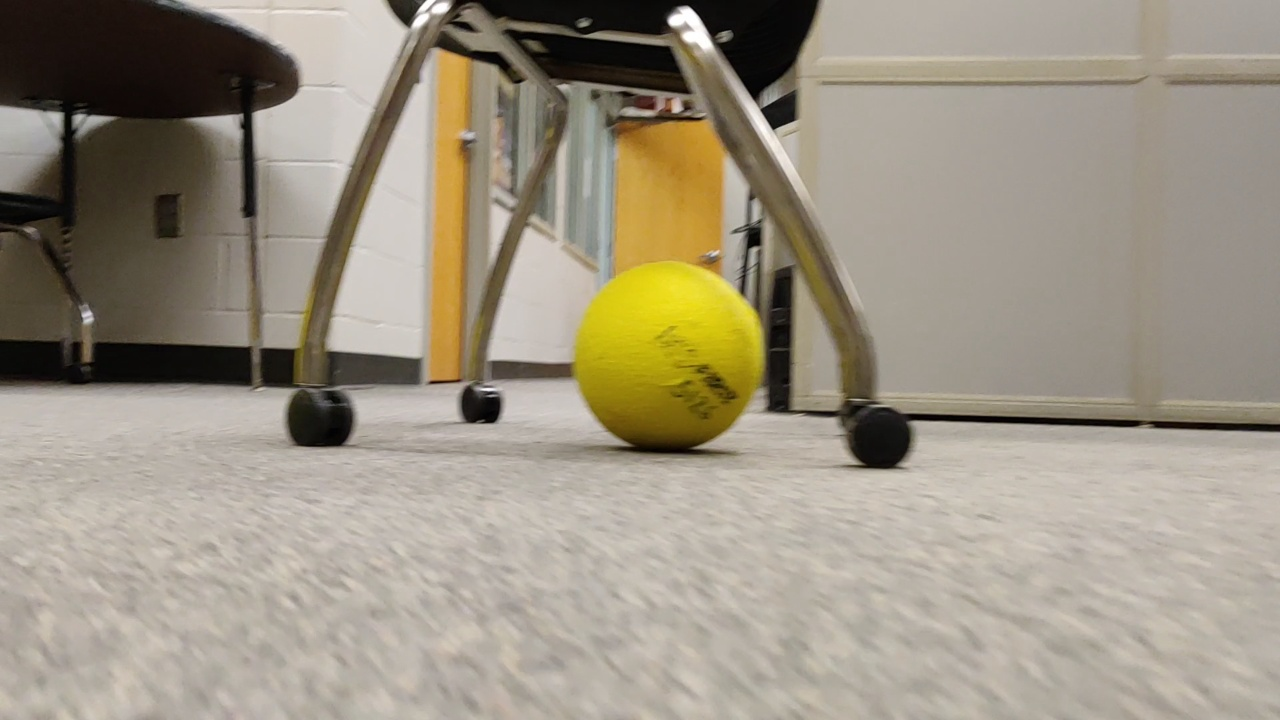Ball: (573, 260, 771, 448)
